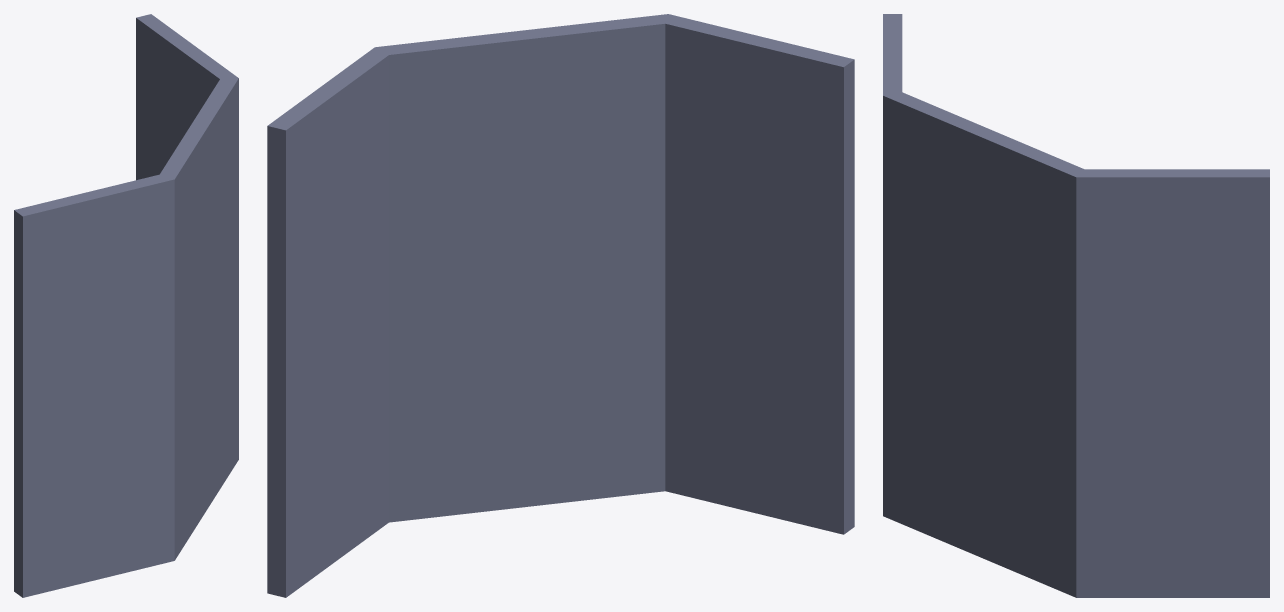
File: wall-corner-diagonal.obj
3 renders of one model, left to right at view 1: azimuth 30°, elevation 25°; view 2: azimuth 150°, elevation 25°; view 3: azimuth 270°, elevation 25°, orthographic. The views are drawn at different scales.
Bounding box in the file's own units: 2 × 2.4 × 2.
